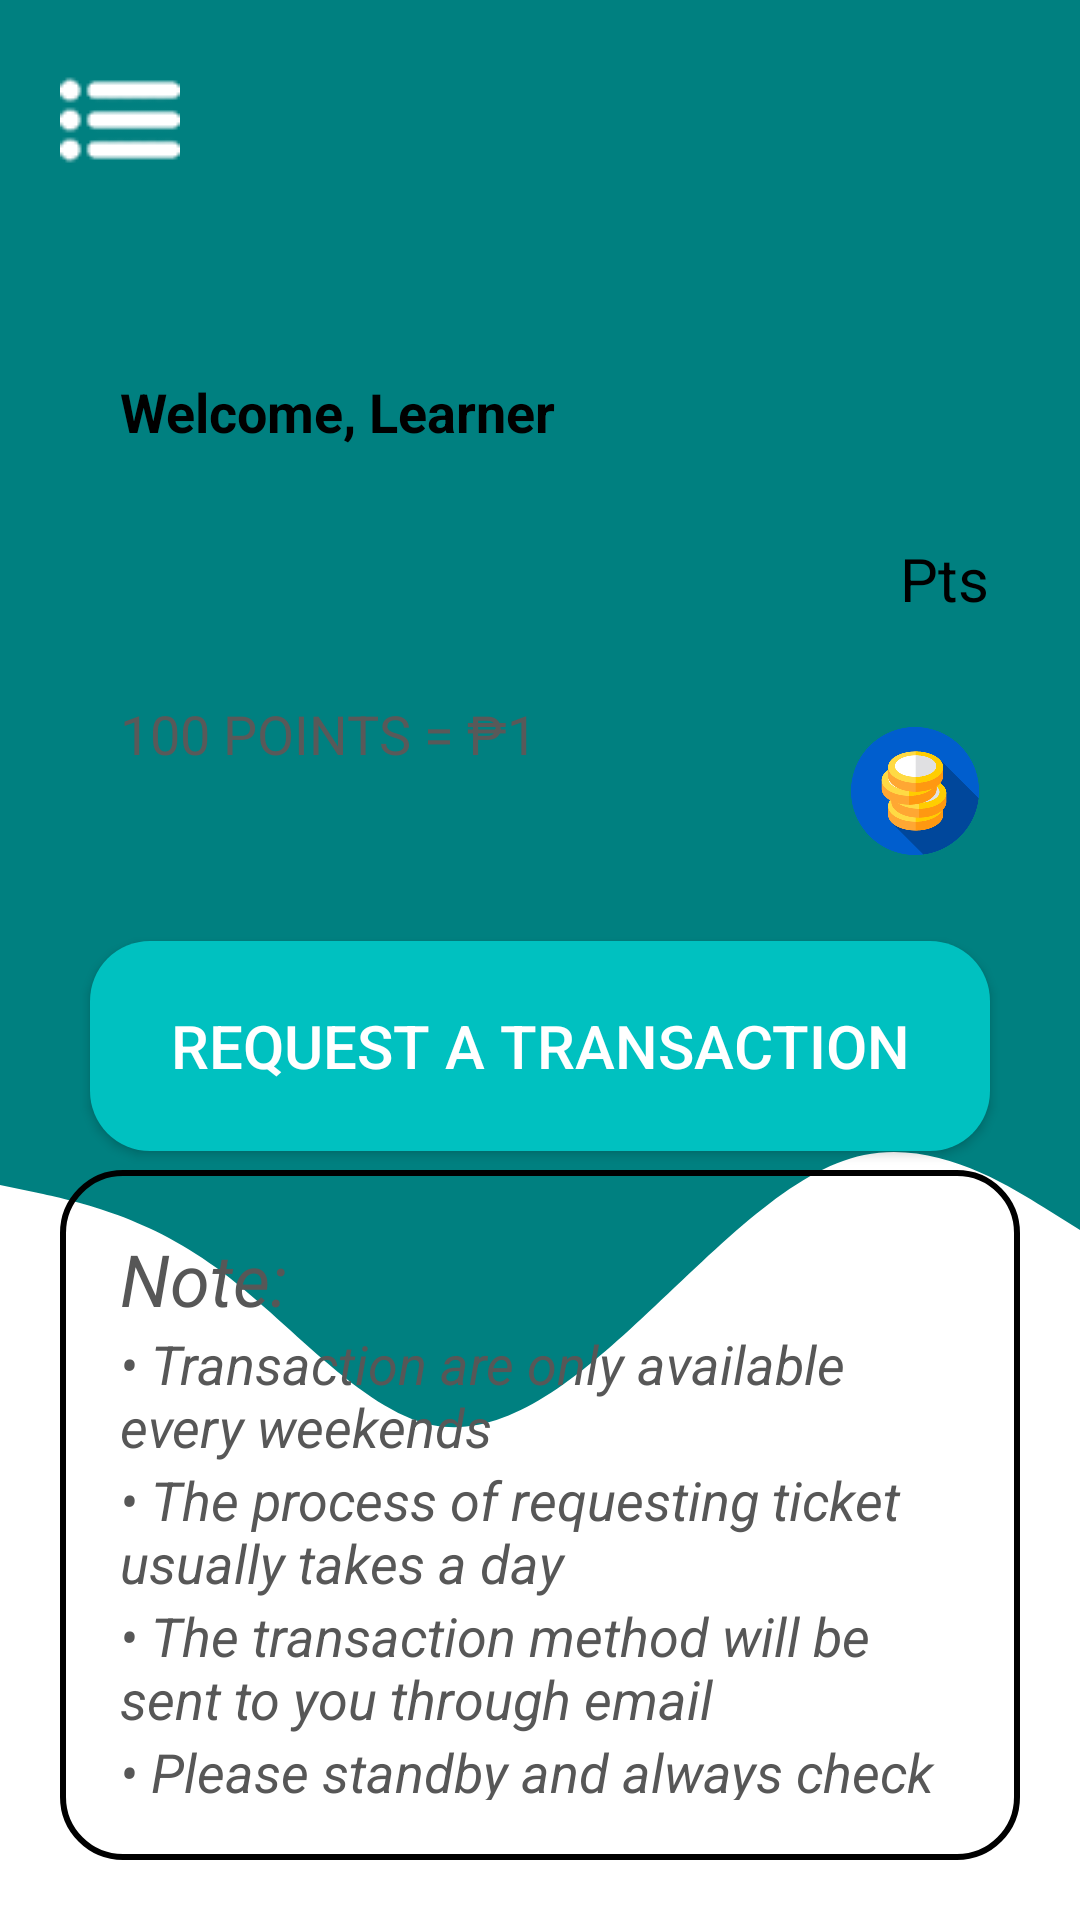

Named icons in this screenshot (1080×1920) and their bounding boxes, (x1, y1, x2, y2):
gamecoin: (851, 727, 979, 855)
